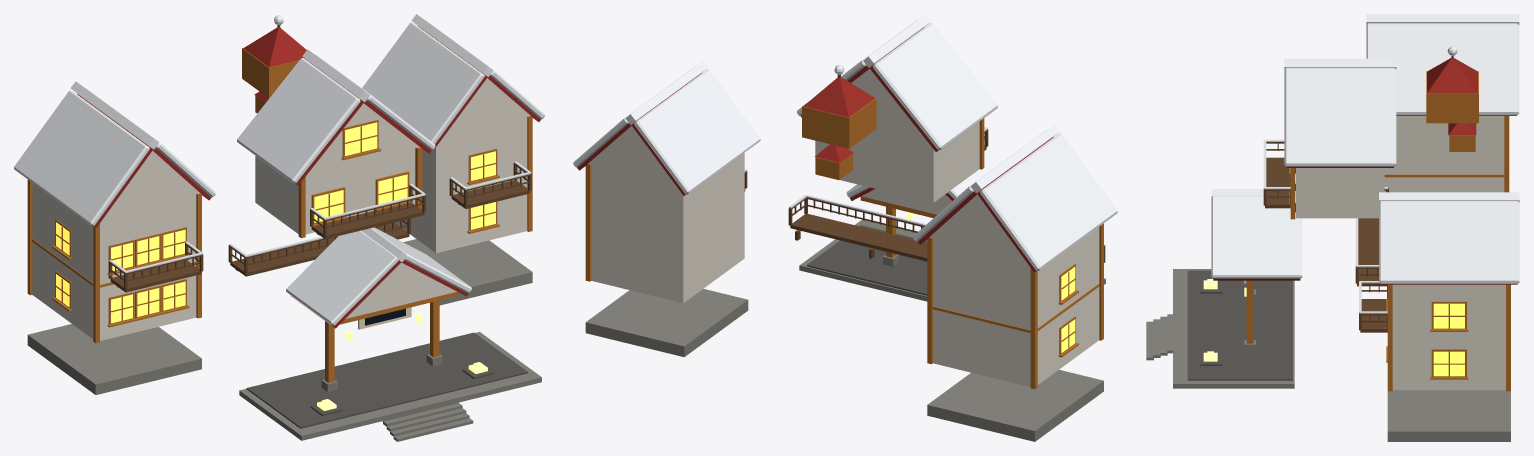
The model's file is lodge-annex-3-sugarhouse.glb.
The picture shows the model from 3 angles, left to right: view 1: azimuth 30°, elevation 25°; view 2: azimuth 150°, elevation 25°; view 3: azimuth 270°, elevation 25°; orthographic projection. The views are drawn at different scales.
Visible parts, largest first — view 1: lodge-annex-3-sugarhouse; view 2: lodge-annex-3-sugarhouse; view 3: lodge-annex-3-sugarhouse.
Boxes of the visible parts, x1=… form: lodge-annex-3-sugarhouse: x1=14, y1=14, x2=544, y2=441; lodge-annex-3-sugarhouse: x1=573, y1=14, x2=1117, y2=441; lodge-annex-3-sugarhouse: x1=1146, y1=14, x2=1519, y2=441.
Size of the model in its own units: 31.65 by 19.83 by 22.68.
